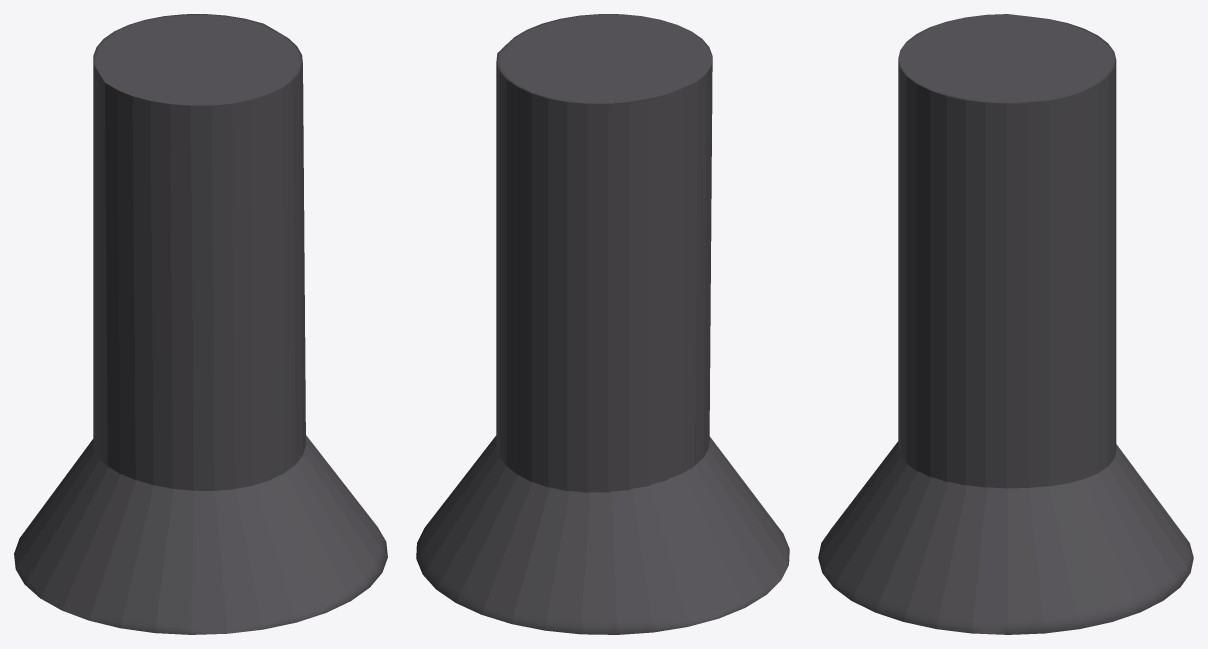
The model's file is tripe.gltf.
3 renders of one model, left to right at view 1: azimuth 30°, elevation 25°; view 2: azimuth 150°, elevation 25°; view 3: azimuth 270°, elevation 25°, orthographic.
Parts seen in each view (by area): view 1: Cylinder; view 2: Cylinder; view 3: Cylinder.
Boxes of the visible parts, x1,y1,x2,y2 form: Cylinder: (14, 14, 387, 634); Cylinder: (416, 14, 789, 634); Cylinder: (818, 14, 1193, 634).
Size of the model in its own units: 2 by 2.93 by 2.
Materials: 1 (1 with a texture image).
